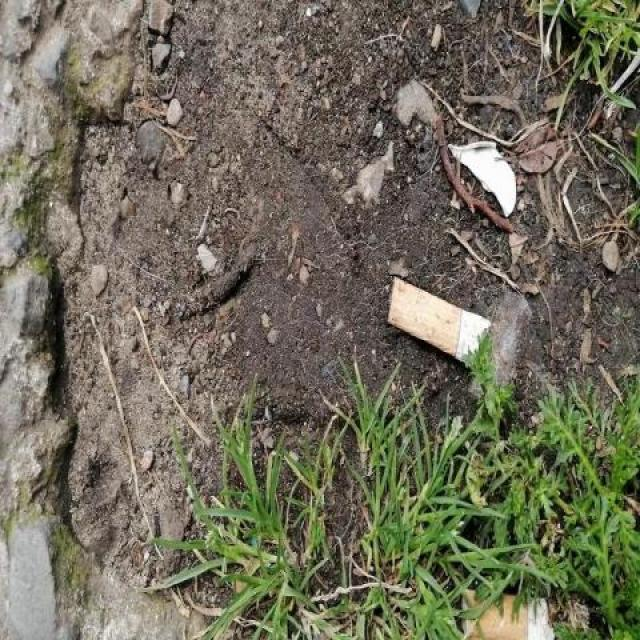non-organic waste: (384, 272, 496, 372), (455, 582, 558, 639)
